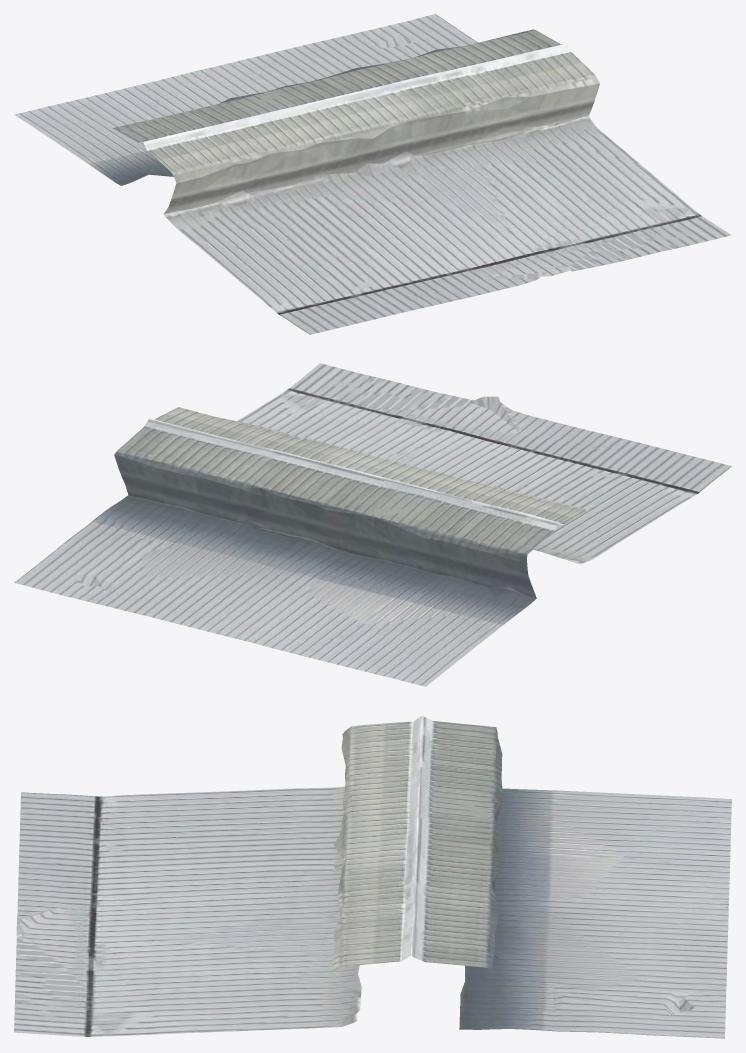
Rendered from Tile_+006_+006_L20_0uuuu20.glb.
3 views of the same model, one above another, from view 1: azimuth 30°, elevation 25°; view 2: azimuth 150°, elevation 25°; view 3: azimuth 270°, elevation 25° (orthographic). The views are drawn at different scales.
Parts seen in each view (by area): view 1: rtc; view 2: rtc; view 3: rtc.
Boxes of the visible parts, <box> form: rtc: <box>14,14,731,334</box>; rtc: <box>14,363,731,686</box>; rtc: <box>14,715,731,1038</box>.
Size of the model in its own units: 21.29 by 3.91 by 26.5.
Materials: 2 (2 with a texture image).
